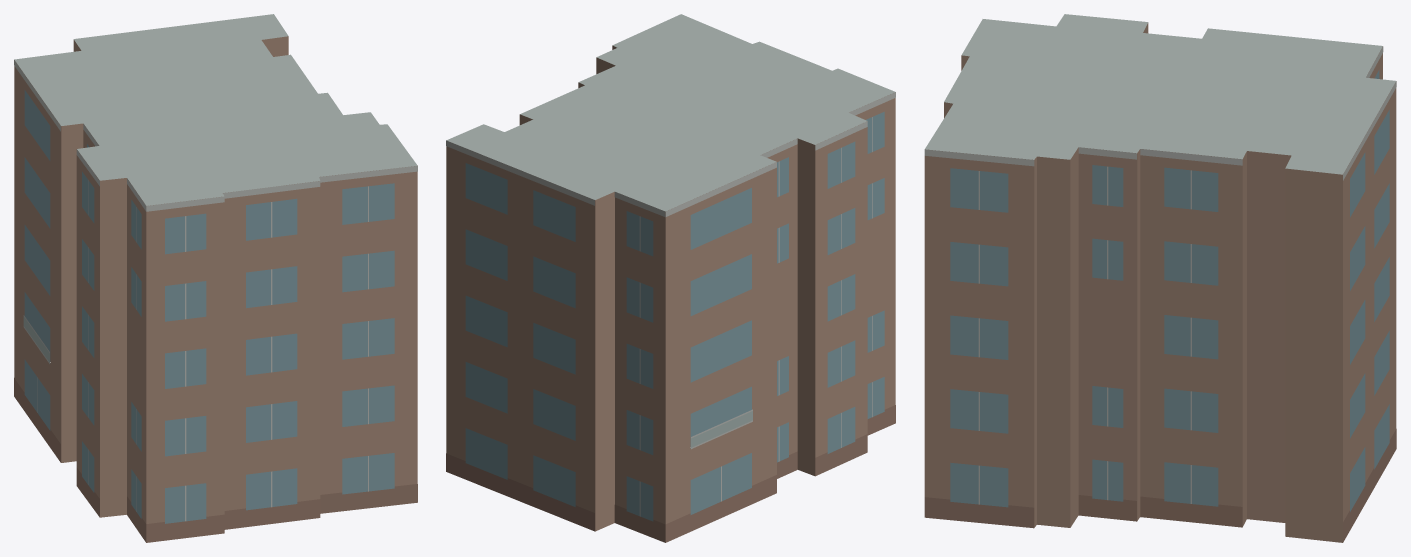
Rendered from survey-upis-32701763.glb.
The picture shows the model from 3 angles, left to right: view 1: azimuth 30°, elevation 25°; view 2: azimuth 150°, elevation 25°; view 3: azimuth 270°, elevation 25°; orthographic projection. The views are drawn at different scales.
Parts seen in each view (by area): view 1: survey-upis-32701763.tmp; view 2: survey-upis-32701763.tmp; view 3: survey-upis-32701763.tmp.
Boxes of the visible parts, x1,y1,x2,y2 form: survey-upis-32701763.tmp: (14, 14, 417, 542); survey-upis-32701763.tmp: (446, 14, 895, 542); survey-upis-32701763.tmp: (924, 14, 1396, 542).
Size of the model in its own units: 13.11 by 14 by 16.27.
